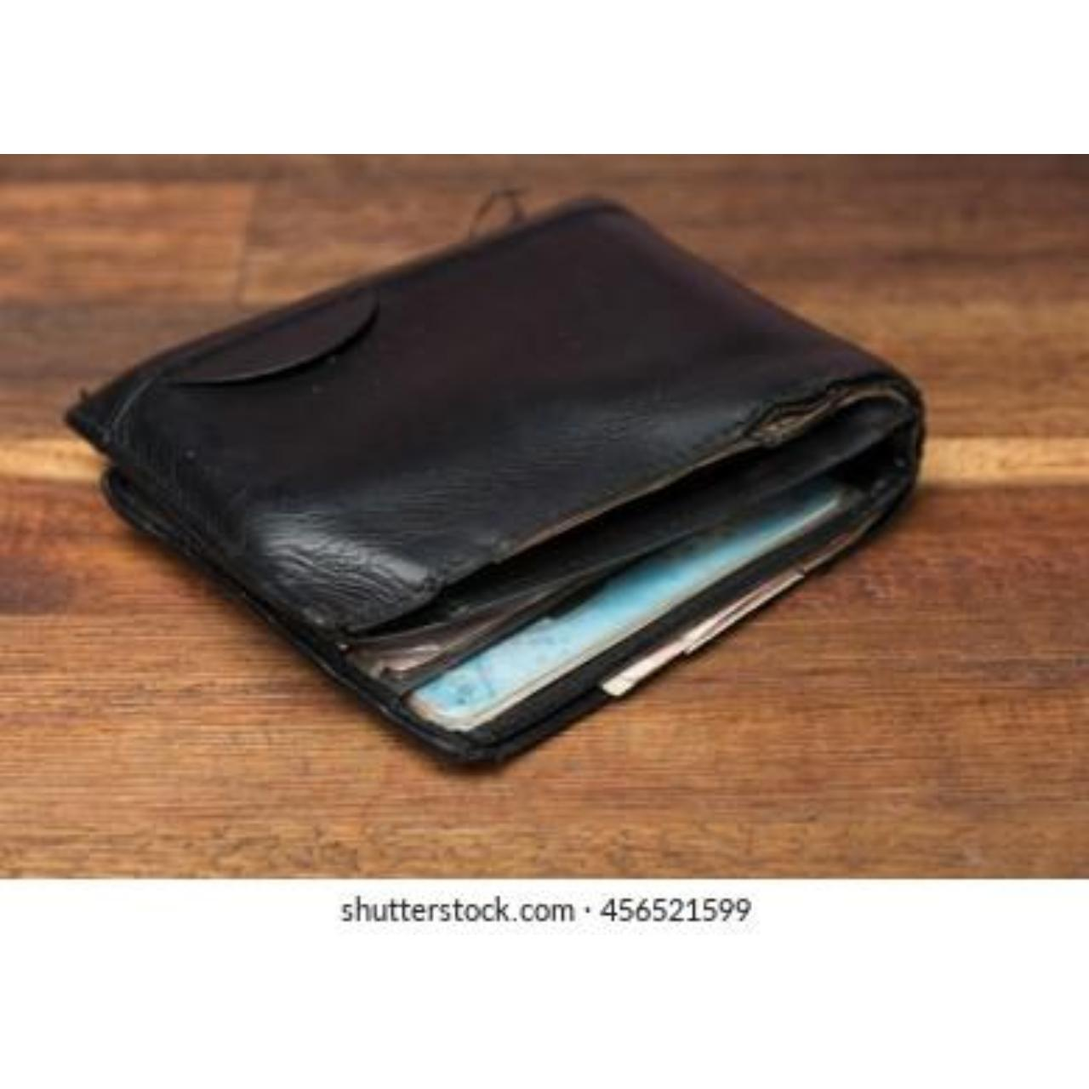wallet: (74, 175, 1040, 750)
